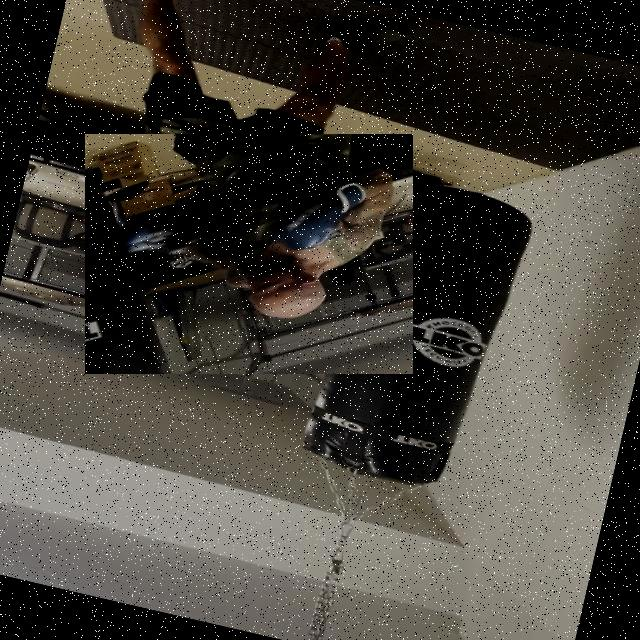punch: (85, 134, 413, 374)
